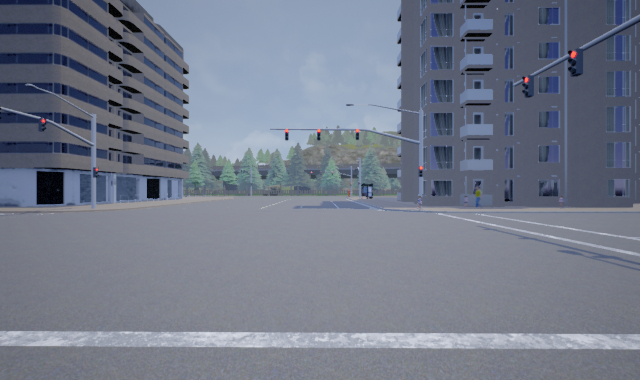pedestrian: (471, 185, 484, 208), (555, 194, 566, 208), (461, 194, 470, 208), (415, 195, 423, 210)
traffic_light: (567, 49, 584, 77), (521, 73, 534, 98), (38, 117, 47, 132), (316, 128, 322, 141), (417, 164, 423, 176), (284, 127, 289, 140), (354, 127, 359, 139), (92, 166, 97, 176)
